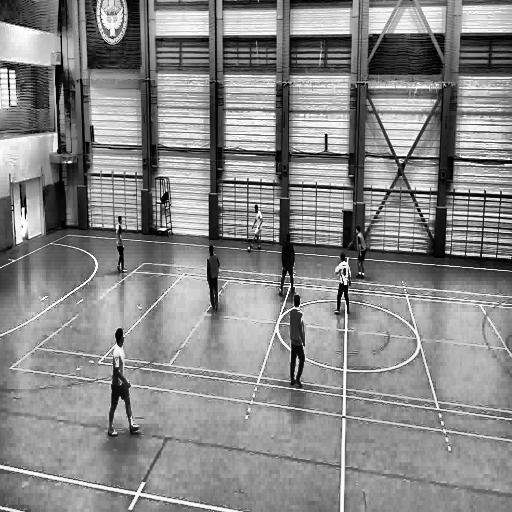ball: (245, 246, 252, 255)
player: (106, 329, 140, 440), (289, 296, 306, 390), (278, 233, 296, 298), (334, 252, 351, 318), (207, 245, 220, 313), (249, 202, 264, 252), (115, 214, 127, 276), (354, 226, 367, 280)
